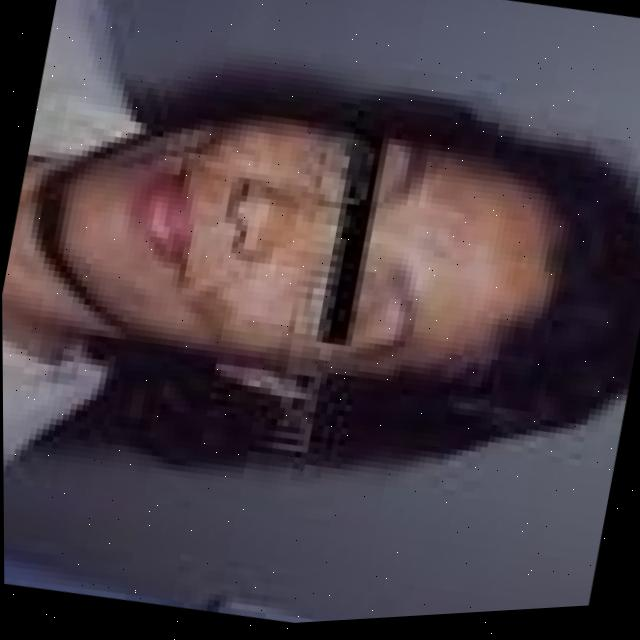Melasma: (398, 161, 555, 302), (164, 278, 264, 360), (250, 187, 308, 264)
